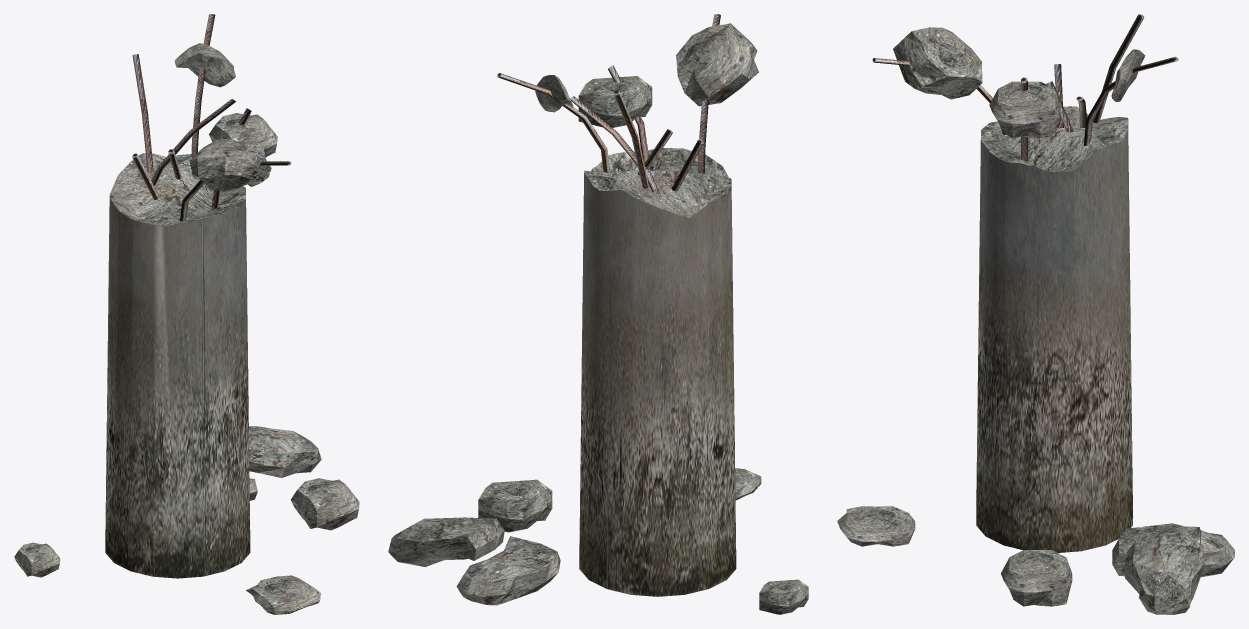
File: RoadLamp3_2a.FBX
3 views of the same model, side by side, from view 1: azimuth 30°, elevation 25°; view 2: azimuth 150°, elevation 25°; view 3: azimuth 270°, elevation 25° (orthographic). The views are drawn at different scales.
Visible parts, largest first — view 1: PillarBottom, Debris; view 2: PillarBottom, Debris; view 3: PillarBottom, Debris.
Boxes of the visible parts, box(x1,y1,x2,y2) form: PillarBottom: box(105, 153, 250, 578); Debris: box(14, 14, 359, 614); PillarBottom: box(579, 148, 736, 596); Debris: box(388, 14, 808, 614); PillarBottom: box(976, 106, 1132, 552); Debris: box(837, 14, 1234, 614).
Bounding box in the file's own units: 20.49 × 27.86 × 19.35.
